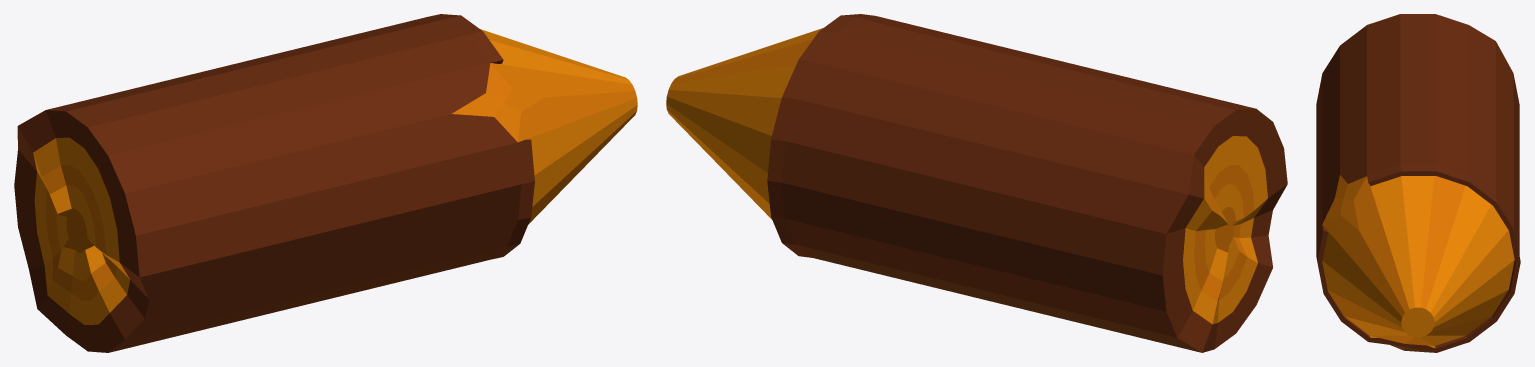
Rendered from Broken log_25.fbx.
3 views of the same model, side by side, from view 1: azimuth 30°, elevation 25°; view 2: azimuth 150°, elevation 25°; view 3: azimuth 270°, elevation 25° (orthographic). The views are drawn at different scales.
Parts seen in each view (by area): view 1: Circle.408; view 2: Circle.408; view 3: Circle.408.
Boxes of the visible parts, box(x1,y1,x2,y2) form: Circle.408: box(14, 14, 637, 352); Circle.408: box(666, 14, 1287, 352); Circle.408: box(1316, 14, 1520, 352).
Size of the model in its own units: 66.1 by 25.3 by 25.71.
